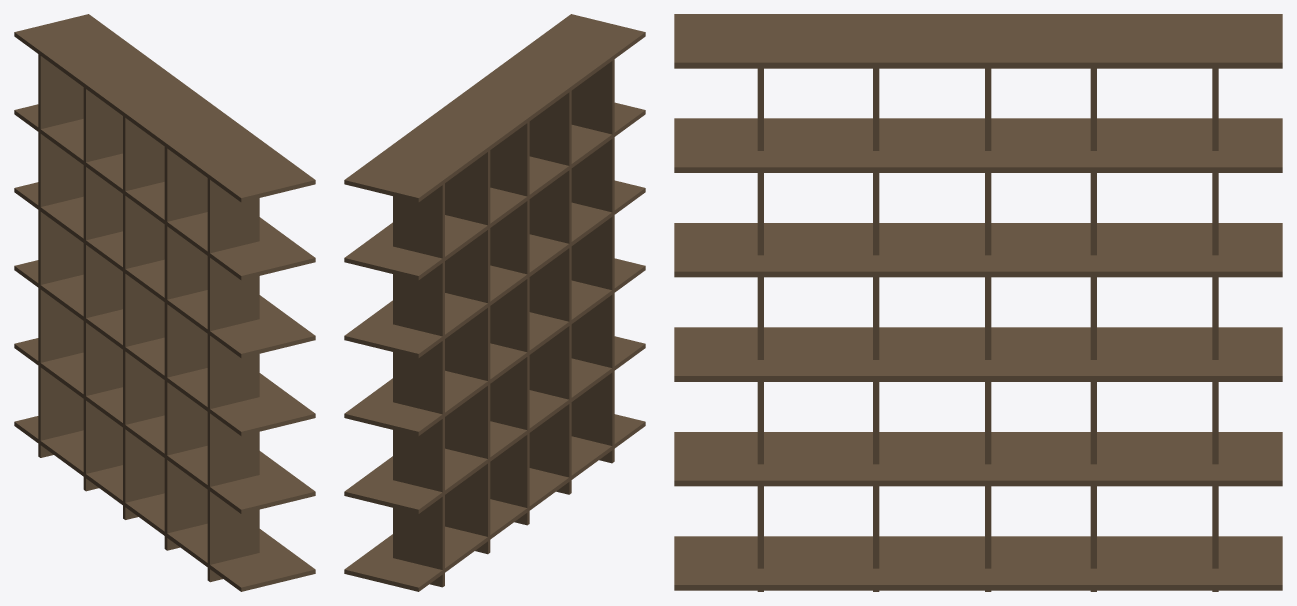
File: air2.glb
3 renders of one model, left to right at view 1: azimuth 30°, elevation 25°; view 2: azimuth 150°, elevation 25°; view 3: azimuth 270°, elevation 25°, orthographic. The views are drawn at different scales.
Parts seen in each view (by area): view 1: Cube.010, Cube.007, Cube.006, Cube.005, Cube.008, Cube.011, Cube.002, Cube.003, Cube.009, Cube, Cube.001; view 2: Cube.010, Cube.006, Cube.011, Cube.007, Cube.005, Cube.008, Cube.001, Cube, Cube.009, Cube.003, Cube.002; view 3: Cube.010, Cube, Cube.001, Cube.002, Cube.003, Cube.009, Cube.006, Cube.005, Cube.007, Cube.008, Cube.011.
Boxes of the visible parts, <box> form: Cube.010: <box>14,14,315,202</box>; Cube.007: <box>207,178,259,582</box>; Cube.006: <box>38,54,83,457</box>; Cube.005: <box>164,147,207,550</box>; Cube.008: <box>123,116,164,519</box>; Cube.011: <box>83,87,122,491</box>; Cube.002: <box>14,182,315,358</box>; Cube.003: <box>14,260,315,435</box>; Cube.009: <box>14,104,315,280</box>; Cube: <box>14,416,315,591</box>; Cube.001: <box>14,338,315,513</box>; Cube.010: <box>344,14,645,202</box>; Cube.006: <box>393,183,444,587</box>; Cube.011: <box>445,150,490,554</box>; Cube.007: <box>571,59,614,463</box>; Cube.005: <box>529,91,571,494</box>; Cube.008: <box>490,121,529,525</box>; Cube.001: <box>344,336,645,513</box>; Cube: <box>344,414,645,591</box>; Cube.009: <box>344,102,645,280</box>; Cube.003: <box>344,258,645,435</box>; Cube.002: <box>344,180,645,358</box>; Cube.010: <box>674,14,1282,68</box>; Cube: <box>674,536,1282,590</box>; Cube.001: <box>674,432,1282,486</box>; Cube.002: <box>674,223,1282,277</box>; Cube.003: <box>674,327,1282,381</box>; Cube.009: <box>674,118,1282,172</box>; Cube.006: <box>1212,68,1218,591</box>; Cube.005: <box>873,68,879,591</box>; Cube.007: <box>757,68,763,591</box>; Cube.008: <box>985,68,991,591</box>; Cube.011: <box>1090,68,1096,591</box>.
Bounding box in the file's own units: 0.36 × 1.88 × 1.9.
